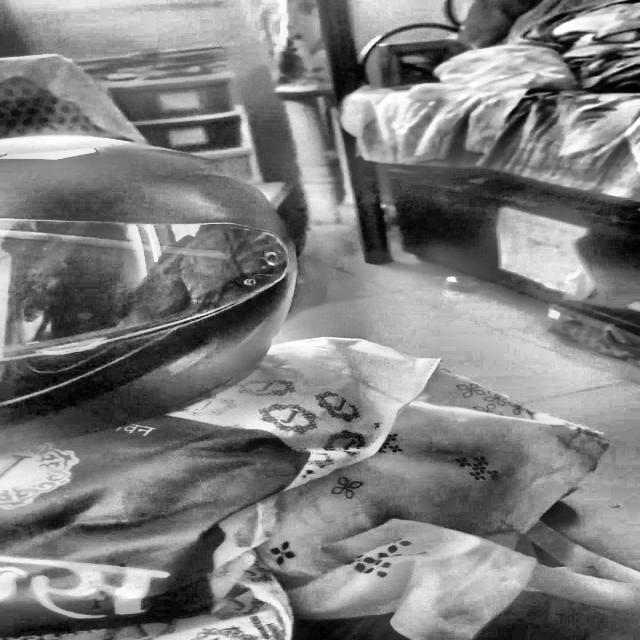Helmet: (5, 126, 316, 458)
